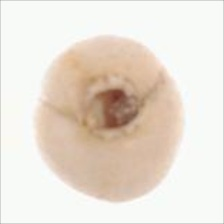L3: (75, 75, 147, 135)
L4: (33, 34, 183, 202)
